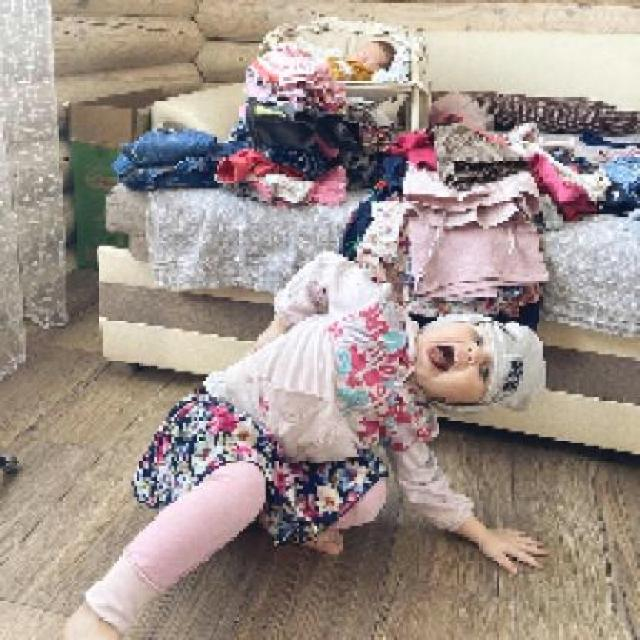child: (62, 248, 555, 638), (281, 38, 393, 82)
